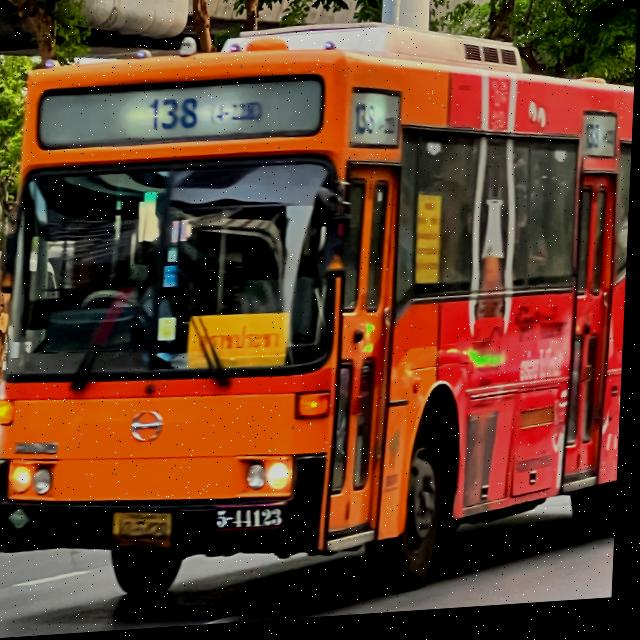BMTA-bus: (0, 0, 639, 625)
Bus Line Number: (142, 87, 273, 139)
Bus Side Number: (220, 504, 293, 535)
Destination Sign: (187, 313, 292, 373)
